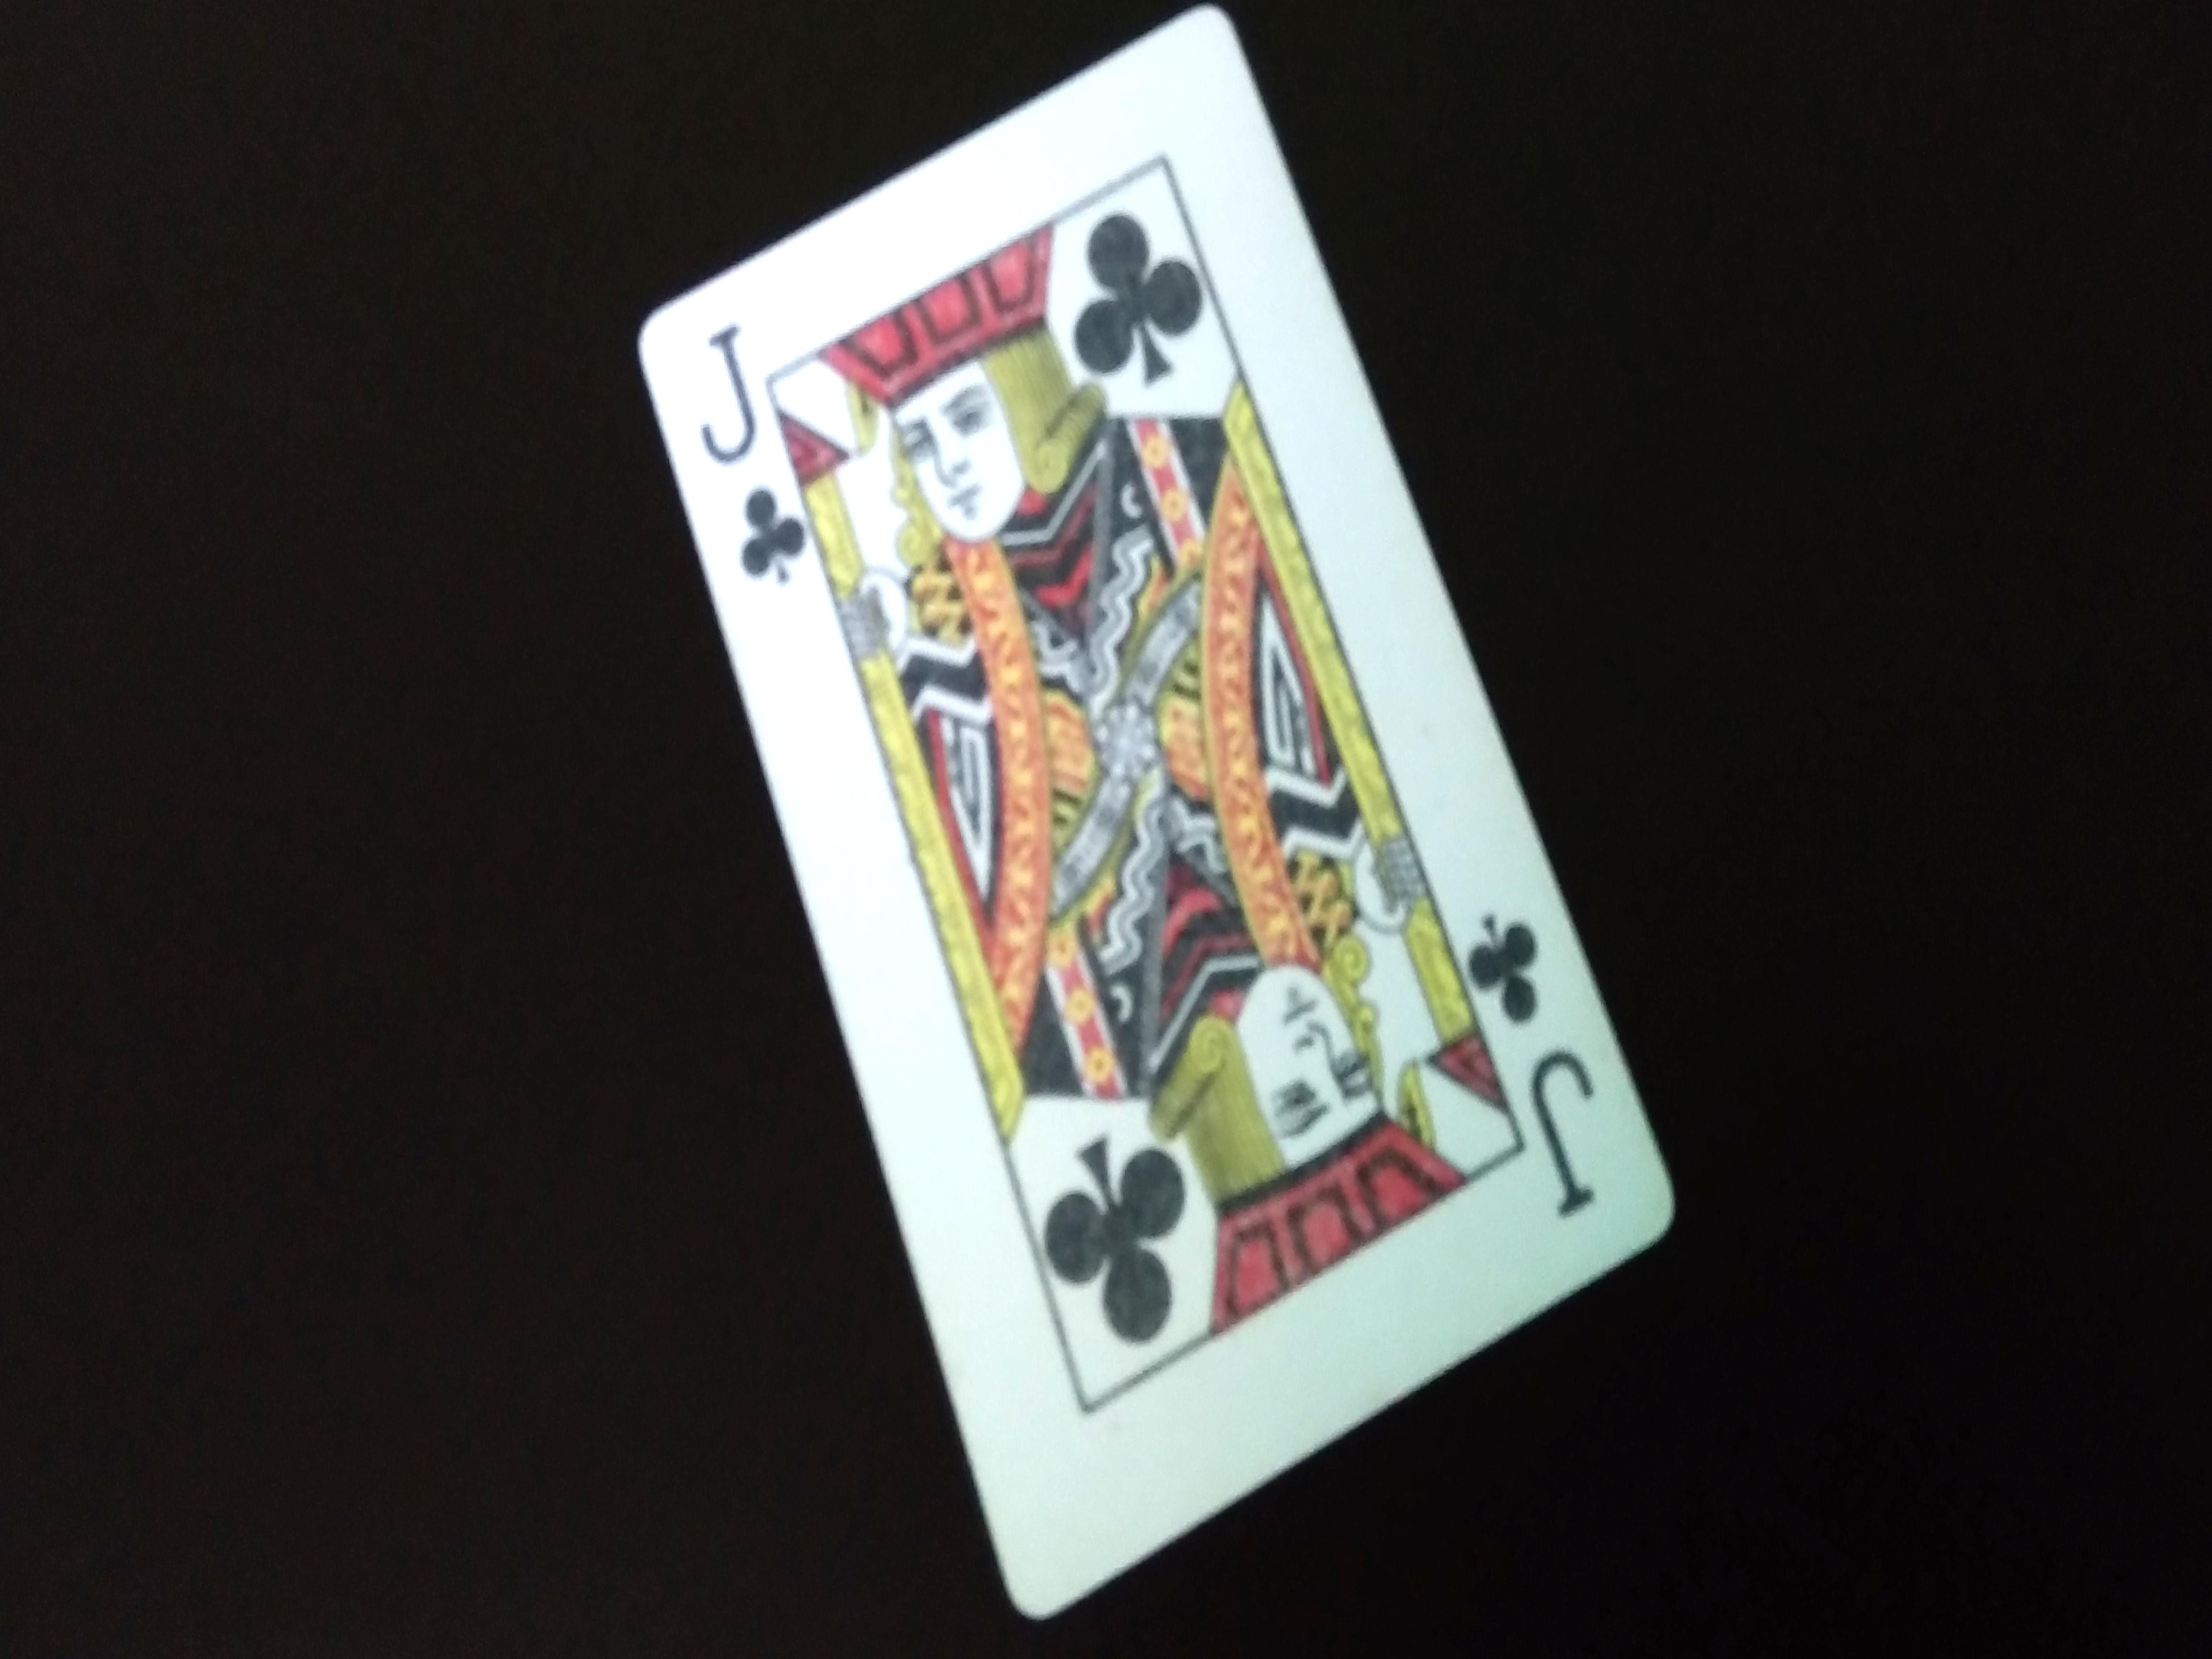JC: (698, 319, 798, 594)
